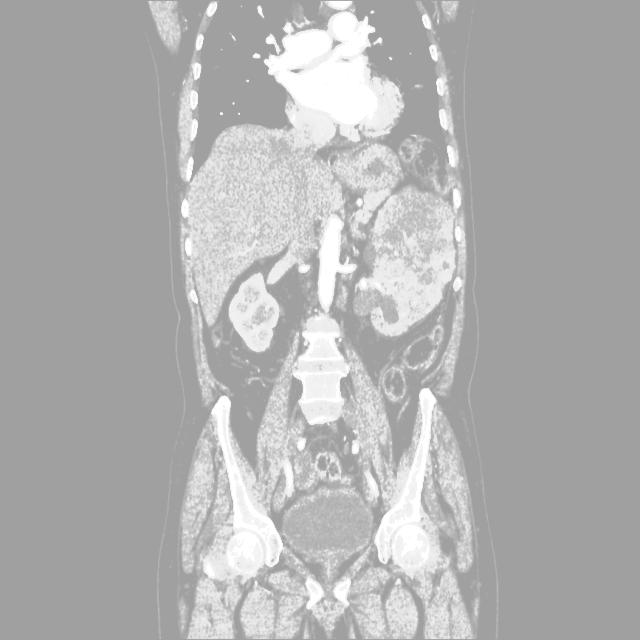TUMOR: (167, 208, 456, 390)
